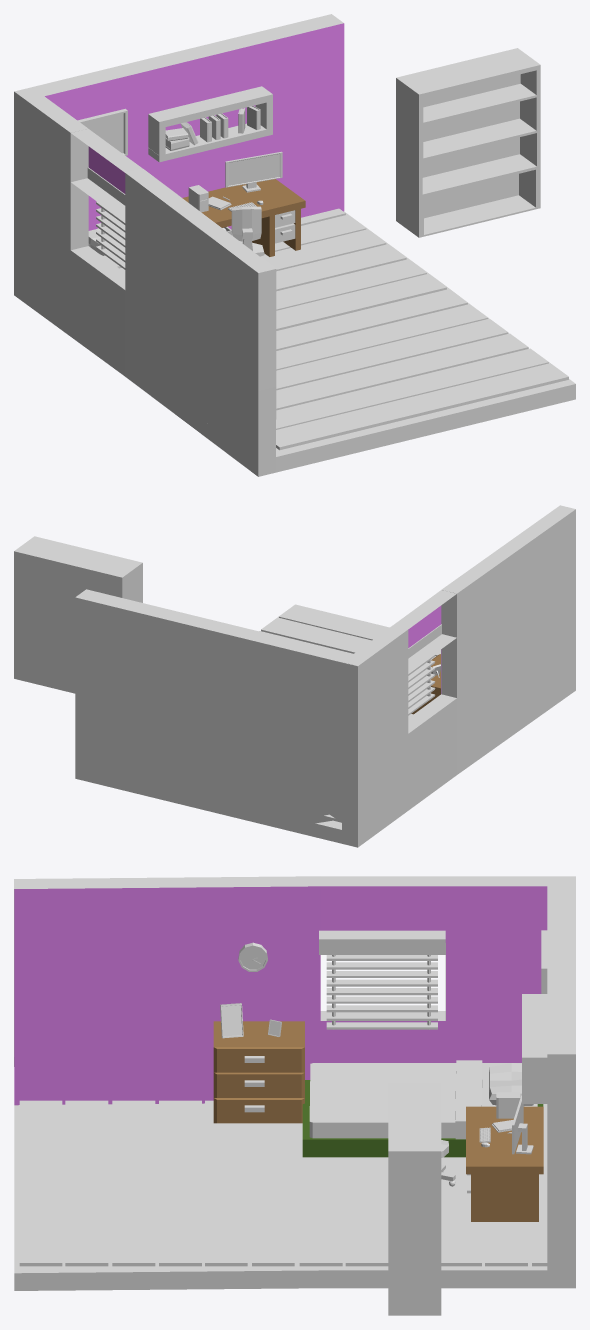
Rendered from Room.fbx.
3 views of the same model, one above another, from view 1: azimuth 30°, elevation 25°; view 2: azimuth 150°, elevation 25°; view 3: azimuth 270°, elevation 25° (orthographic). The views are drawn at different scales.
Visible parts, largest first — view 1: Wall, Ground, Armoire.001, Etagere, Plane.005, Monitor, Vorhang, Paint, Chair; view 2: Wall, Armoire.001, Ground, Vorhang; view 3: Wall, Ground, Armoire.001, Decke, Kommode, Vorhang, Plane.005, Window_frameTop, Etagere, Plane, Kissen, Photo1 (+3 smaller).
Part boxes in pixels (box(x1,y1,x2,y2)): Wall: box(14, 14, 575, 476); Ground: box(232, 208, 568, 450); Armoire.001: box(396, 48, 540, 237); Etagere: box(148, 86, 272, 162); Plane.005: box(182, 179, 305, 256); Monitor: box(225, 151, 282, 192); Vorhang: box(96, 201, 125, 269); Paint: box(77, 108, 127, 155); Chair: box(231, 206, 264, 256); Wall: box(75, 505, 575, 847); Armoire.001: box(14, 536, 142, 693); Ground: box(259, 604, 440, 822); Vorhang: box(408, 654, 435, 715); Wall: box(14, 876, 575, 1290); Ground: box(19, 1100, 547, 1266); Armoire.001: box(388, 1083, 441, 1315); Decke: box(309, 1060, 482, 1139); Kommode: box(213, 1021, 304, 1123); Vorhang: box(326, 955, 437, 1029); Plane.005: box(466, 1106, 543, 1221); Window_frameTop: box(319, 930, 445, 954); Etagere: box(522, 994, 547, 1103); Plane: box(302, 1080, 543, 1157); Kissen: box(489, 1063, 533, 1106); Photo1: box(220, 1003, 243, 1038).
Bounding box in the file's own units: 651 × 288 × 619.
